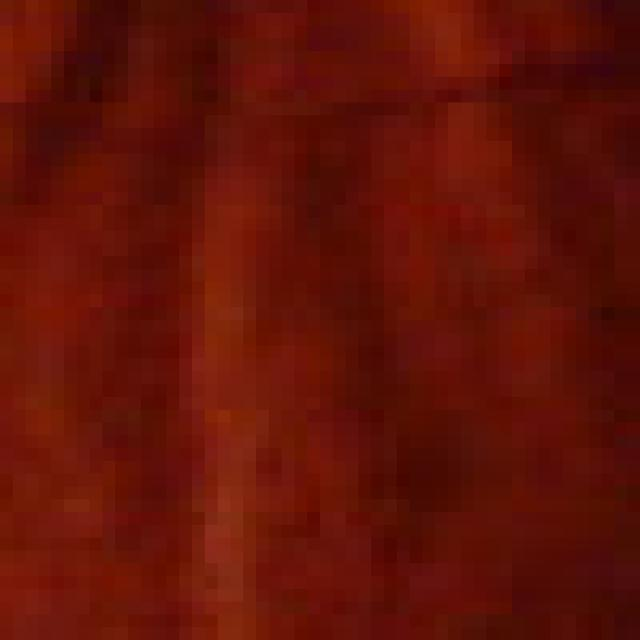no_fire: (6, 17, 640, 594)
